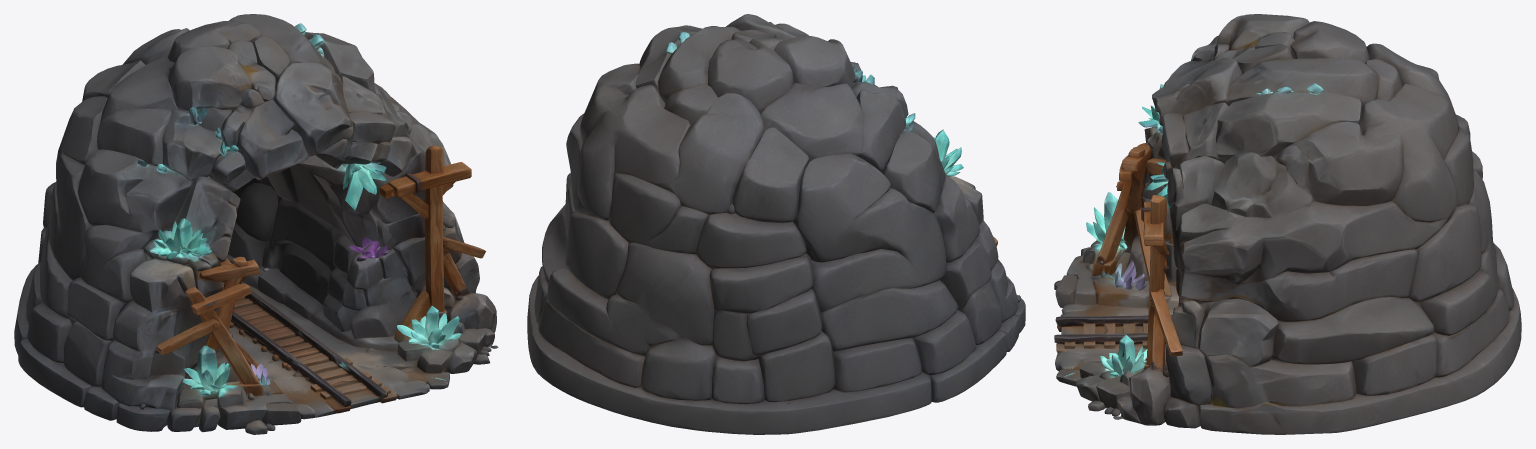
File: cave-cartoon-desktop-decimated.glb
3 views of the same model, side by side, from view 1: azimuth 30°, elevation 25°; view 2: azimuth 150°, elevation 25°; view 3: azimuth 270°, elevation 25° (orthographic). The views are drawn at different scales.
Visible parts, largest first — view 1: model; view 2: model; view 3: model.
Boxes of the visible parts, x1,y1,x2,y2 form: model: (14, 14, 498, 434); model: (527, 14, 1025, 434); model: (1054, 14, 1521, 434).
Bounding box in the file's own units: 1.9 × 1.3 × 1.82.
Materials: 1 (1 with a texture image).
